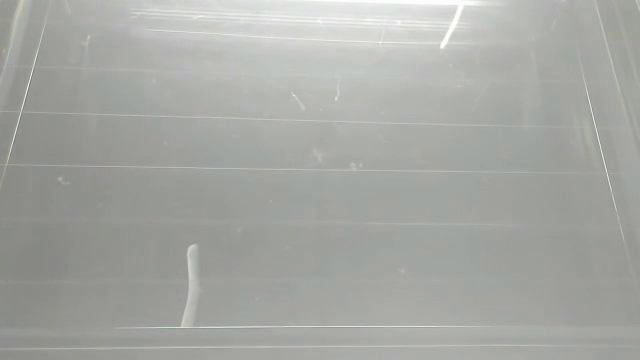alpha: (180, 242, 204, 332), (437, 1, 468, 52)
